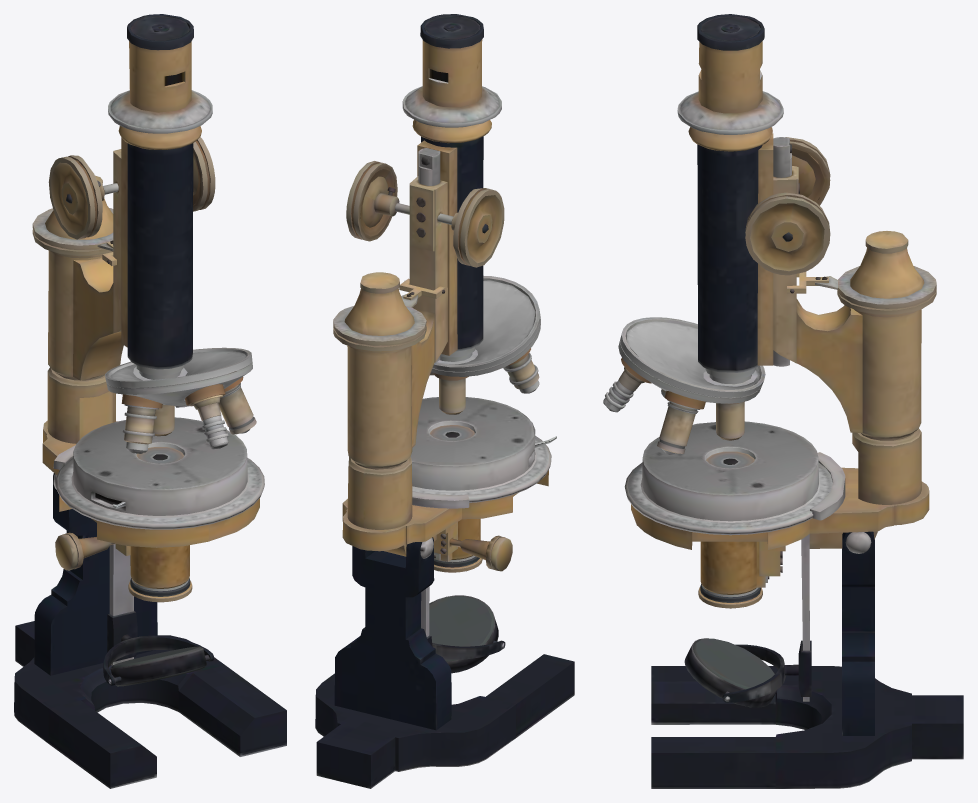
Rendered from vintage_microscope.glb.
3 views of the same model, side by side, from view 1: azimuth 30°, elevation 25°; view 2: azimuth 150°, elevation 25°; view 3: azimuth 270°, elevation 25° (orthographic). The views are drawn at different scales.
Parts seen in each view (by area): view 1: vintage_microscope_mirror_arm, vintage_microscope_mirror_base; view 2: vintage_microscope_mirror_arm, vintage_microscope_mirror_base; view 3: vintage_microscope_mirror_arm, vintage_microscope_mirror_base.
Boxes of the visible parts, bbox=[...] form: vintage_microscope_mirror_arm: bbox=[14, 14, 286, 788]; vintage_microscope_mirror_base: bbox=[111, 646, 205, 686]; vintage_microscope_mirror_arm: bbox=[315, 14, 574, 788]; vintage_microscope_mirror_base: bbox=[429, 596, 494, 661]; vintage_microscope_mirror_arm: bbox=[603, 14, 963, 788]; vintage_microscope_mirror_base: bbox=[692, 638, 774, 707].
Size of the model in its own units: 0.1068 by 0.3996 by 0.1818.
Materials: 2 (2 with a texture image).
